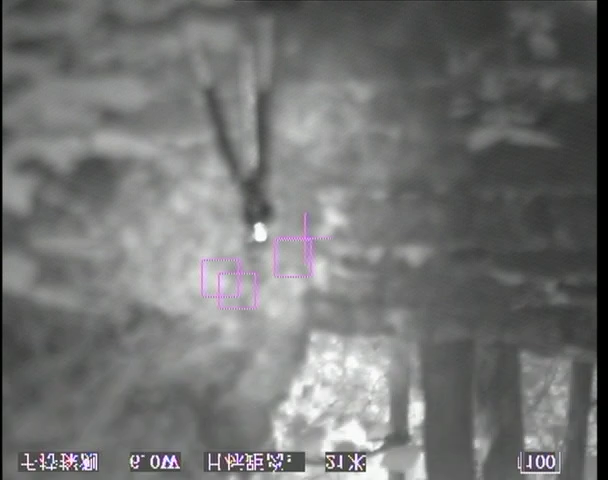my: (249, 222, 271, 242)
